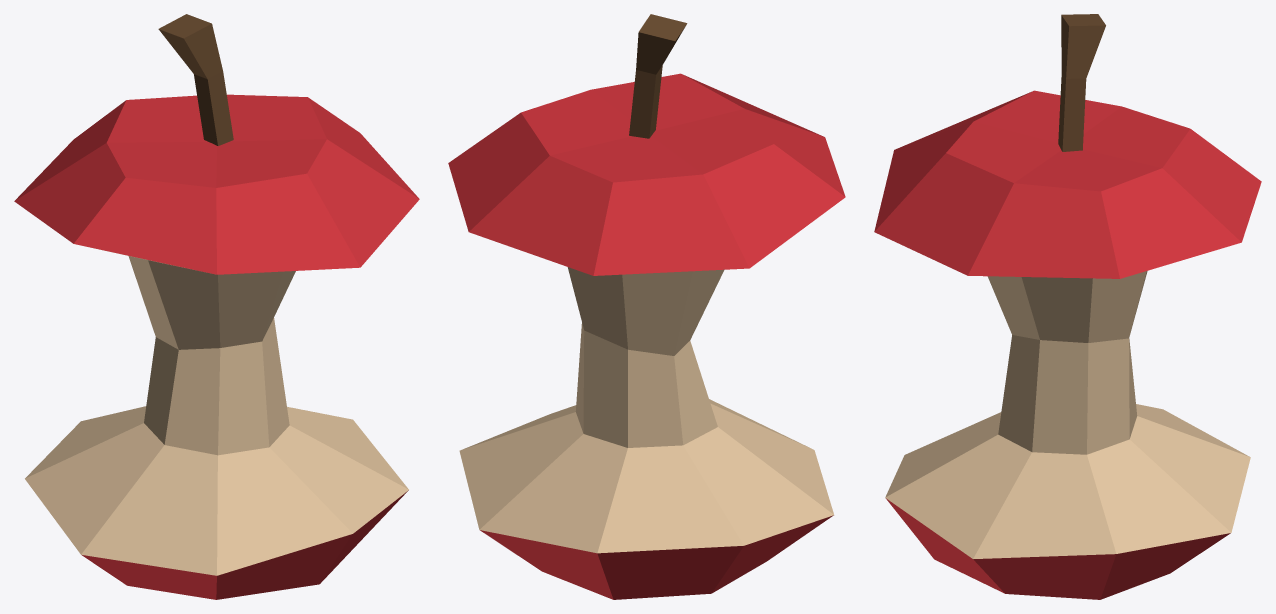
File: food_apple-core.fbx
3 renders of one model, left to right at view 1: azimuth 30°, elevation 25°; view 2: azimuth 150°, elevation 25°; view 3: azimuth 270°, elevation 25°, orthographic. The views are drawn at different scales.
Parts seen in each view (by area): view 1: food_apple_core; view 2: food_apple_core; view 3: food_apple_core.
Boxes of the visible parts, <box> form: food_apple_core: <box>14,14,419,599</box>; food_apple_core: <box>448,14,845,599</box>; food_apple_core: <box>874,14,1261,599</box>.
Size of the model in its own units: 128 by 195 by 128.
